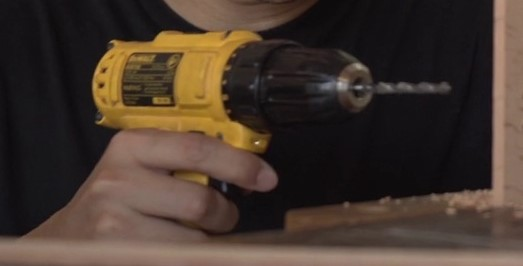driller: (90, 27, 459, 226)
